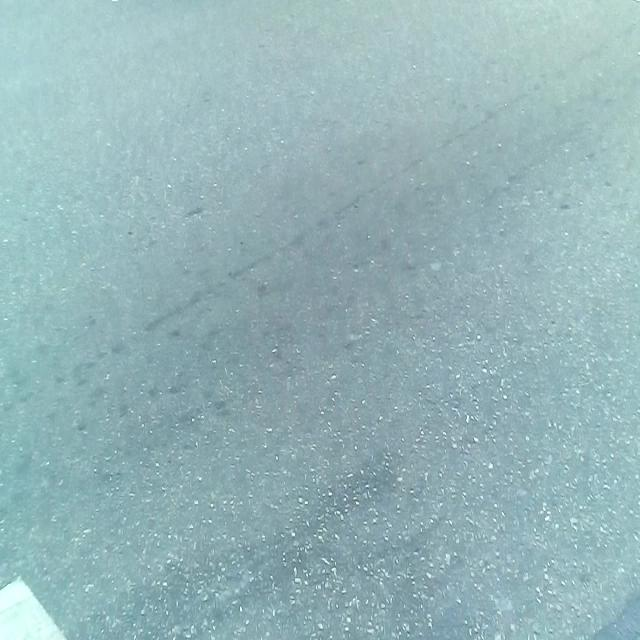crosswalk: (0, 578, 69, 640)
